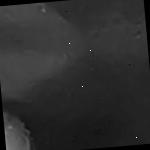colony: (2, 99, 42, 150)
